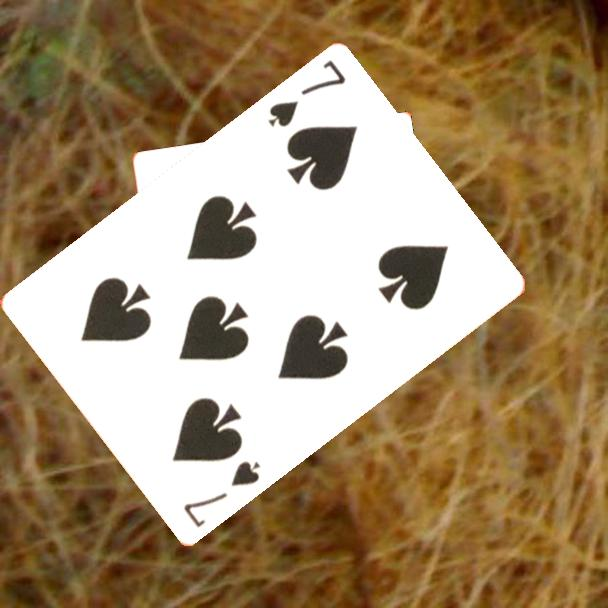s07: (263, 57, 349, 131), (180, 458, 264, 532)
